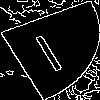I: (25, 25, 67, 73)
